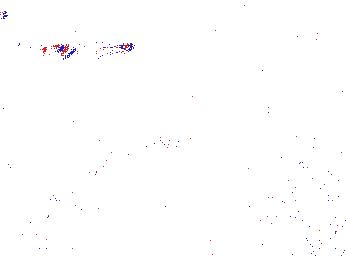glassfish: (75, 129, 191, 189)
red belly glassfish: (19, 39, 64, 57), (155, 61, 180, 85)
redtail glassfish: (59, 37, 136, 62)
